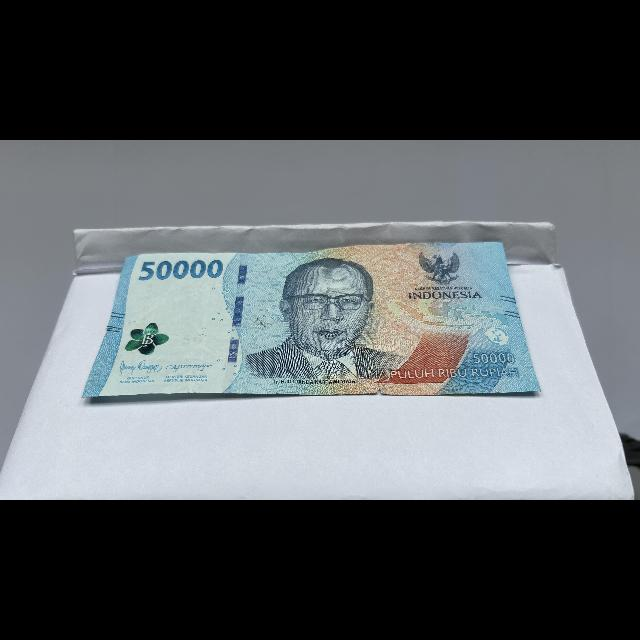Asli-50k: (78, 238, 544, 400)
Tinta-Asli-50k: (122, 318, 174, 360)
